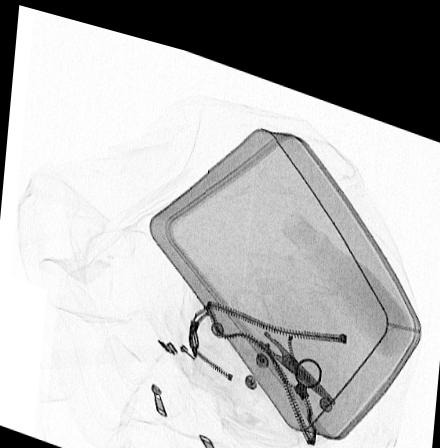Scissors: (209, 274, 337, 388)
